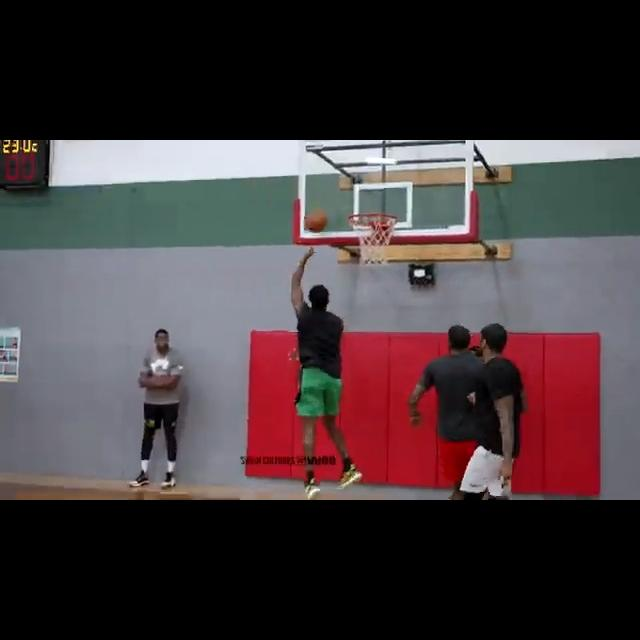basketball: (304, 208, 328, 232)
hoop: (348, 213, 402, 272)
